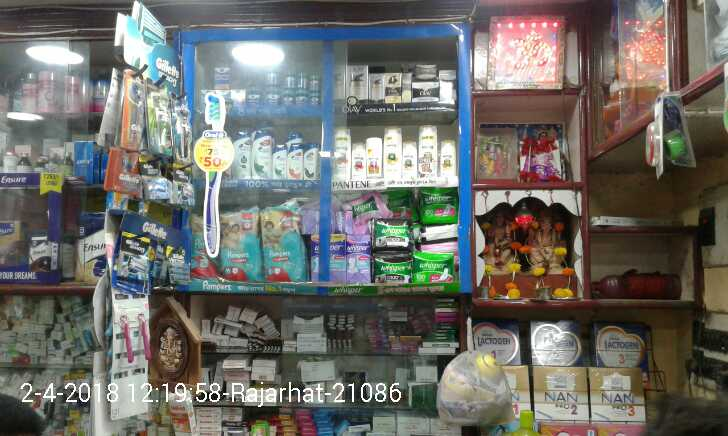vicks: (214, 62, 322, 104)
